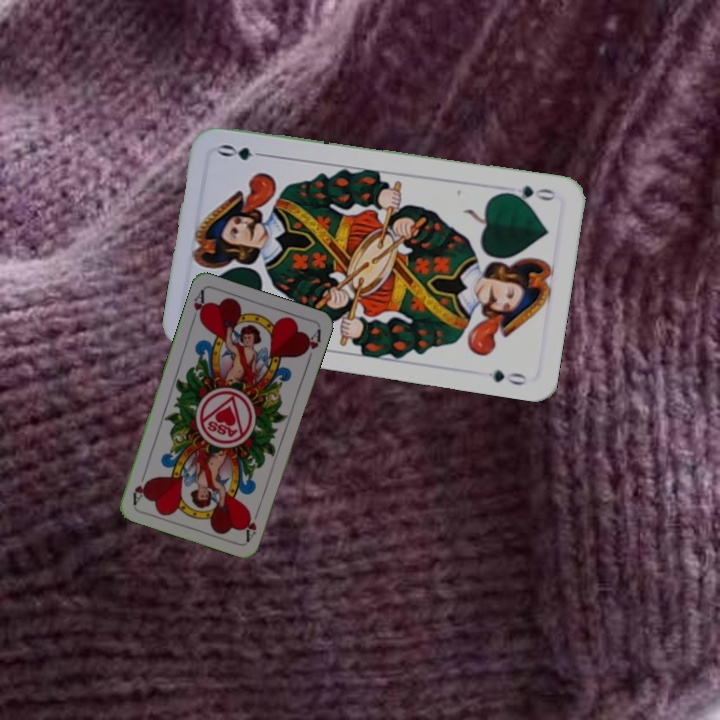GO: (500, 181, 558, 204)
HA: (187, 286, 209, 326), (241, 504, 262, 543)
